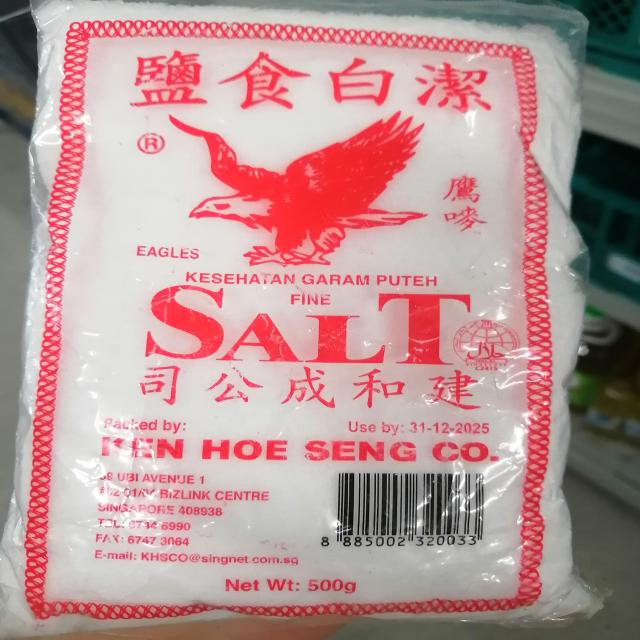object_name: (33, 9, 564, 616)
